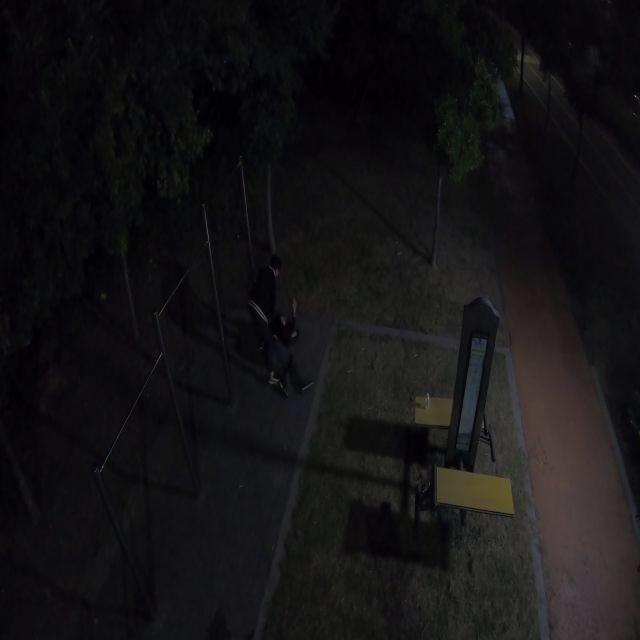fight: (243, 256, 316, 399)
